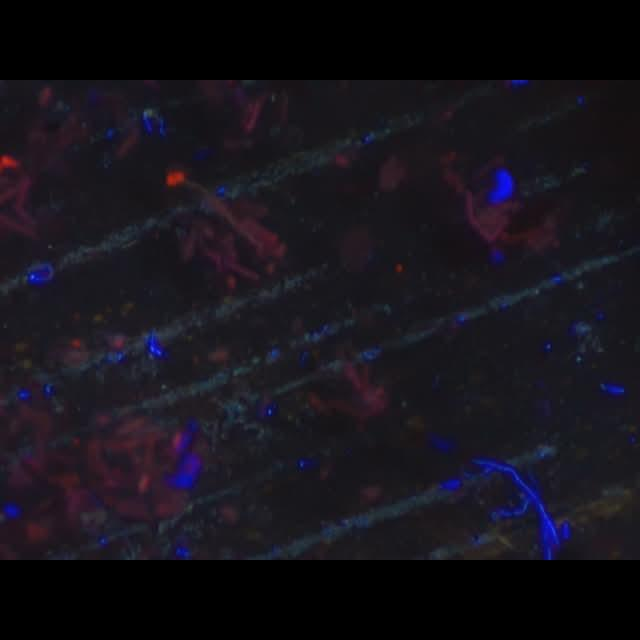Fragment: (166, 171, 286, 288)
